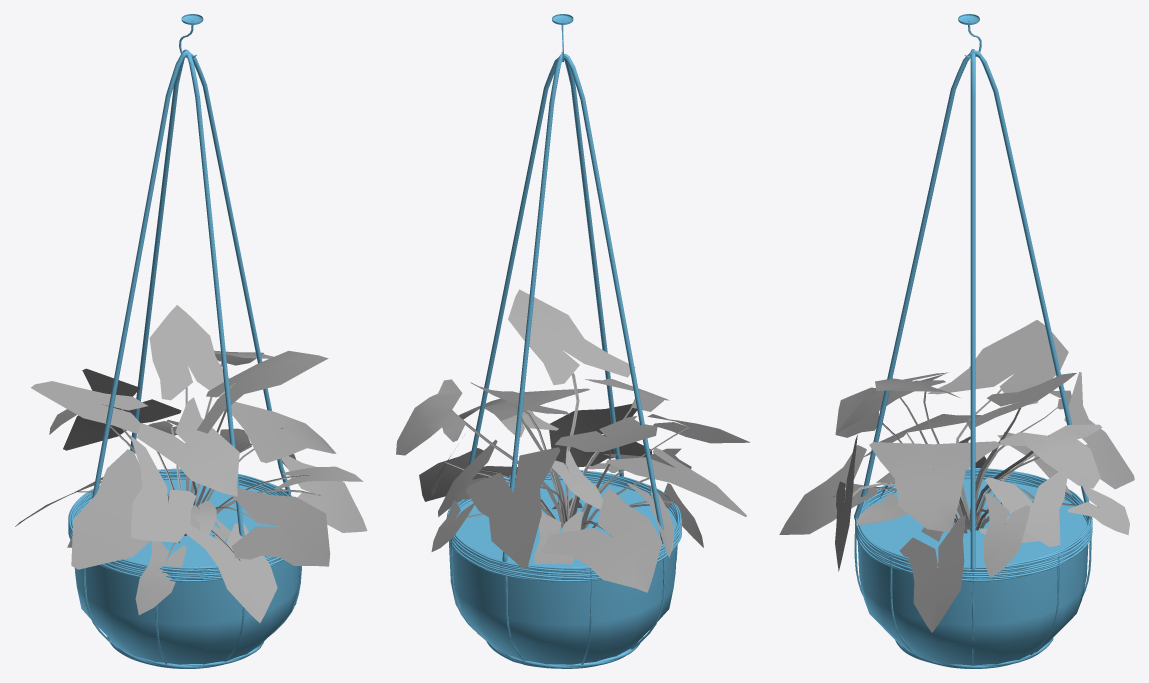
The model's file is Hangingplant.fbx.
The picture shows the model from 3 angles, left to right: view 1: azimuth 30°, elevation 25°; view 2: azimuth 150°, elevation 25°; view 3: azimuth 270°, elevation 25°; orthographic projection.
Visible parts, largest first — view 1: Hangingplant1; view 2: Hangingplant1; view 3: Hangingplant1.
Part boxes in pixels (bbox=[...]): Hangingplant1: bbox=[15, 14, 367, 668]; Hangingplant1: bbox=[396, 14, 749, 668]; Hangingplant1: bbox=[779, 14, 1134, 668].
Size of the model in its own units: 1.08 by 2.06 by 1.07.
